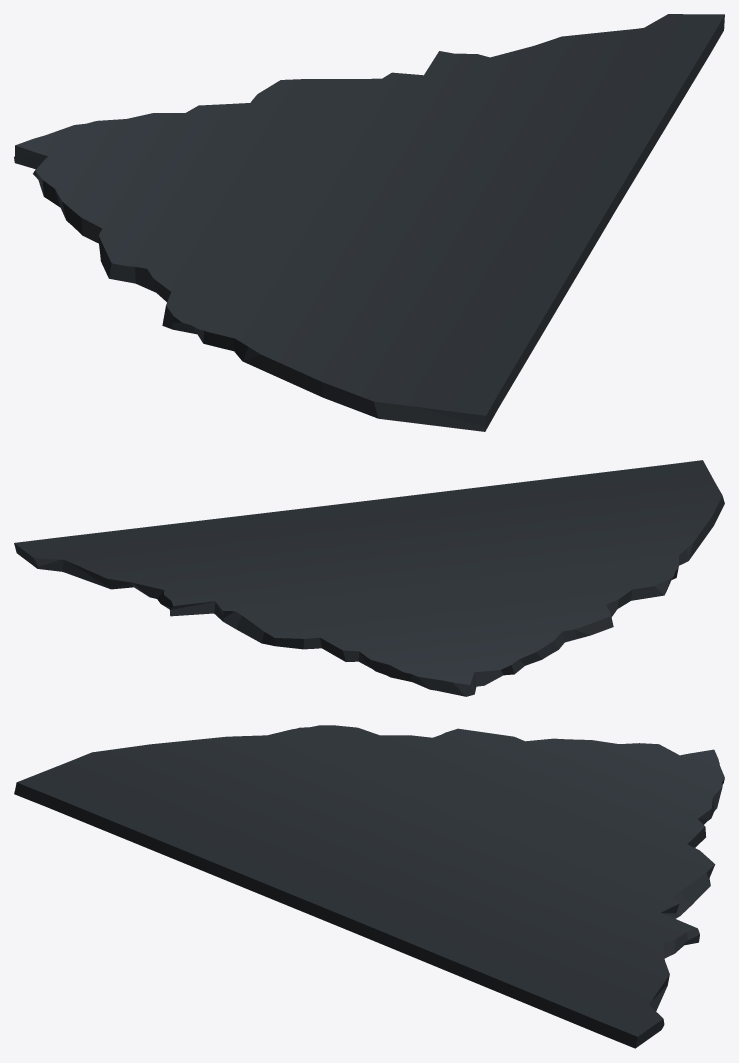
Rendered from Road Model Chunk2.fbx.
3 renders of one model, top to bottom at view 1: azimuth 30°, elevation 25°; view 2: azimuth 150°, elevation 25°; view 3: azimuth 270°, elevation 25°, orthographic. The views are drawn at different scales.
Parts seen in each view (by area): view 1: Road Chunk 2; view 2: Road Chunk 2; view 3: Road Chunk 2.
Part boxes in pixels (x1,y1,x2,y2): Road Chunk 2: [14, 14, 724, 431]; Road Chunk 2: [14, 460, 724, 696]; Road Chunk 2: [14, 725, 724, 1048].
Bounding box in the file's own units: 5259 × 104 × 5048.
